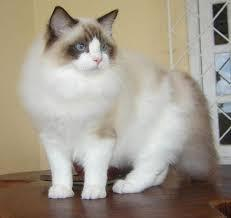ragdoll: (40, 1, 127, 90)
